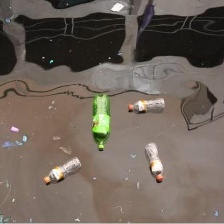bottle: (88, 91, 114, 154), (39, 154, 84, 186), (139, 141, 169, 184), (124, 89, 168, 113)
